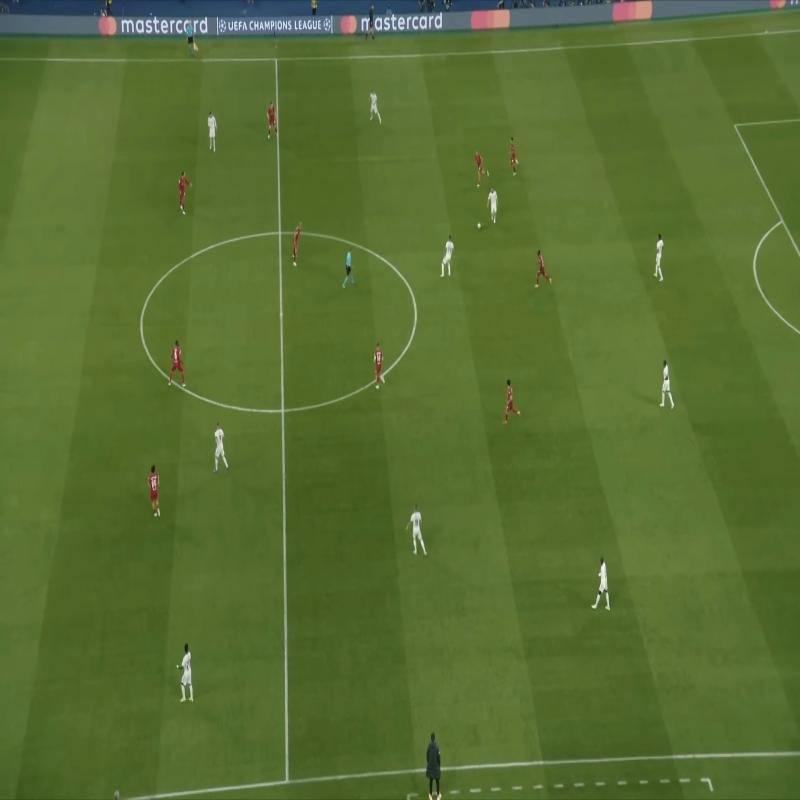10: (773, 206, 792, 236)
13: (270, 49, 284, 70)
14: (272, 225, 289, 242)
15: (274, 403, 291, 420)
16: (278, 772, 295, 792)
9: (726, 118, 742, 134)
c: (134, 316, 152, 334), (407, 304, 424, 320)
